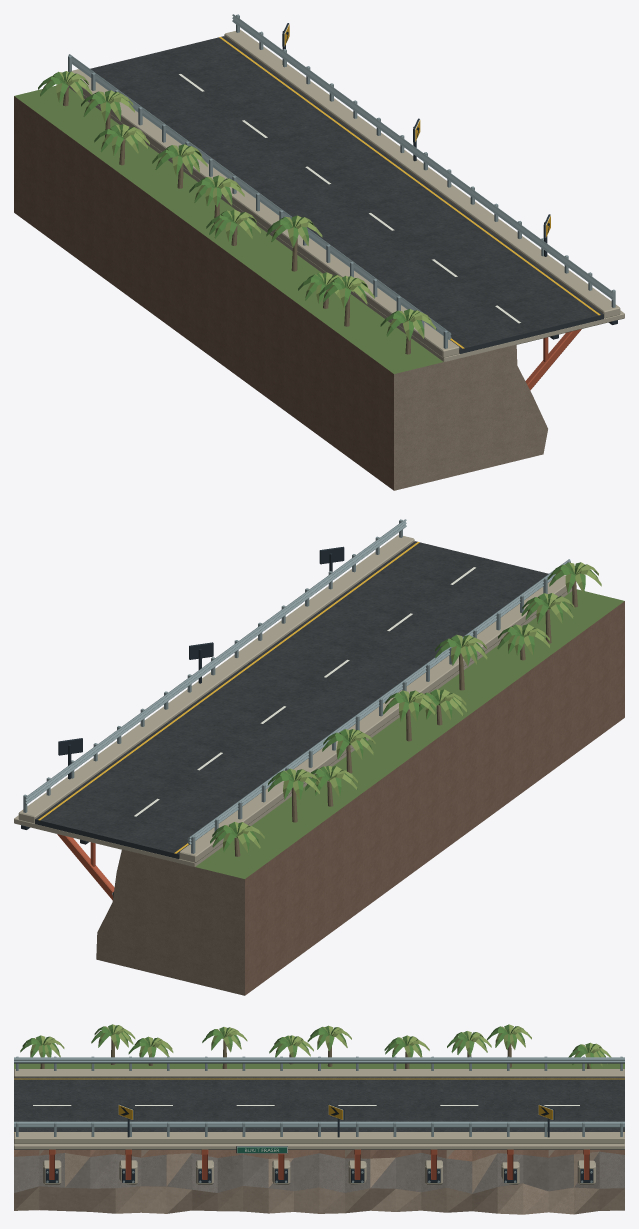
The picture shows the model from 3 angles, top to bottom: view 1: azimuth 30°, elevation 25°; view 2: azimuth 150°, elevation 25°; view 3: azimuth 270°, elevation 25°; orthographic projection. The views are drawn at different scales.
Visible parts, largest first — view 1: Layered cliff shelf, Running course, Upstand kerbs, Umbrella fern fronds, Corrugated crash beams, Guard posts, Deck bearing slab, Edge lines, Tree fern stems, Raking valley knees; view 2: Layered cliff shelf, Running course, Upstand kerbs, Umbrella fern fronds, Corrugated crash beams, Guard posts, Deck bearing slab, Tree fern stems, Edge lines, Chevron signs, Raking valley knees; view 3: Layered cliff shelf, Running course, Upstand kerbs, Corrugated crash beams, Umbrella fern fronds, Deck bearing slab, Face anchor shoes, Raking valley knees, Guard posts, Edge lines, Anchor base plates, Chevron signs (+4 smaller).
Boxes of the visible parts, x1,y1,x2,y2 form: Layered cliff shelf: [14, 86, 547, 490]; Running course: [90, 36, 603, 353]; Upstand kerbs: [72, 29, 620, 357]; Umbrella fern fronds: [38, 71, 436, 340]; Corrugated crash beams: [68, 14, 615, 339]; Guard posts: [68, 14, 615, 348]; Deck bearing slab: [68, 85, 624, 361]; Edge lines: [219, 37, 600, 348]; Tree fern stems: [63, 86, 411, 354]; Raking valley knees: [525, 329, 581, 390]; Layered cliff shelf: [96, 589, 624, 995]; Running course: [35, 541, 548, 858]; Upstand kerbs: [18, 534, 572, 862]; Umbrella fern fronds: [210, 562, 601, 852]; Corrugated crash beams: [23, 519, 570, 844]; Guard posts: [23, 519, 570, 853]; Deck bearing slab: [14, 588, 572, 866]; Tree fern stems: [234, 580, 577, 856]; Edge lines: [38, 542, 419, 853]; Chevron signs: [58, 546, 344, 755]; Raking valley knees: [57, 834, 114, 900]; Layered cliff shelf: [14, 1063, 624, 1214]; Running course: [14, 1077, 624, 1131]; Upstand kerbs: [14, 1069, 624, 1143]; Corrugated crash beams: [14, 1057, 624, 1127]; Umbrella fern fronds: [20, 1024, 611, 1068]; Deck bearing slab: [14, 1143, 624, 1149]; Face anchor shoes: [43, 1160, 595, 1184]; Raking valley knees: [49, 1154, 589, 1179]; Guard posts: [16, 1056, 622, 1136]; Edge lines: [14, 1078, 624, 1132]; Anchor base plates: [45, 1169, 593, 1182]; Chevron signs: [118, 1103, 554, 1120].
Bounding box in the file's own units: 11.95 × 7.7 × 32.
Materials: 18 (4 with a texture image).
